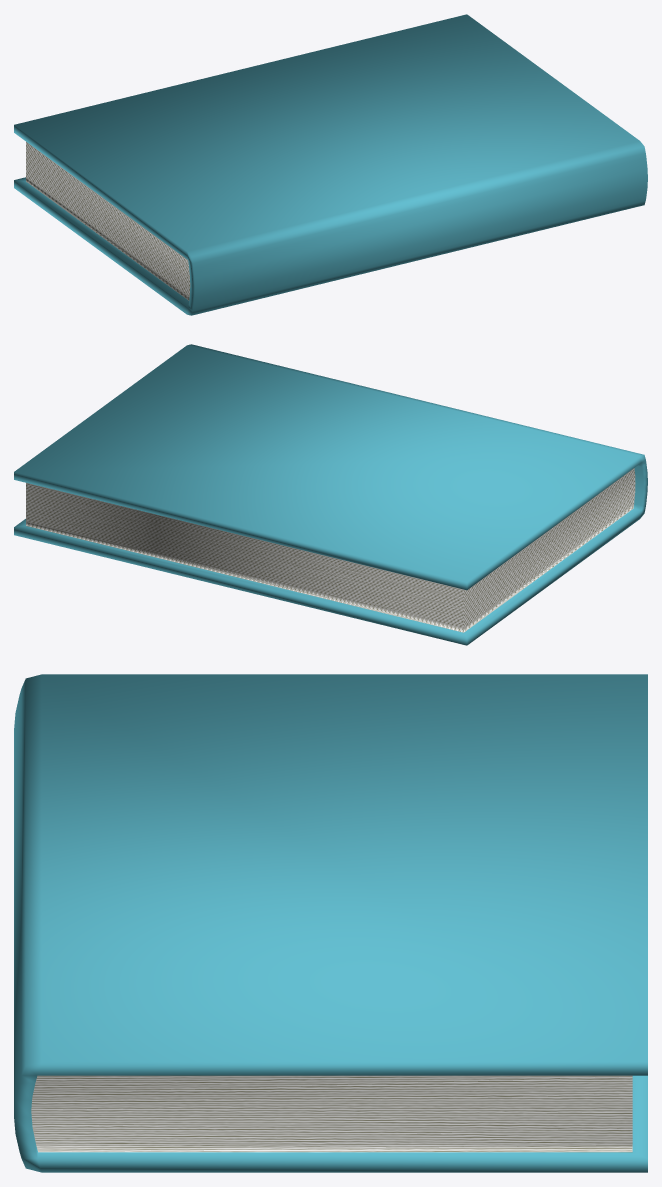
File: NewBook.fbx
3 renders of one model, top to bottom at view 1: azimuth 30°, elevation 25°; view 2: azimuth 150°, elevation 25°; view 3: azimuth 270°, elevation 25°, orthographic. The views are drawn at different scales.
Visible parts, largest first — view 1: Book; view 2: Book; view 3: Book.
Boxes of the visible parts, left/top/right/bottom form: Book: left=14, top=14, right=647, bottom=315; Book: left=14, top=344, right=647, bottom=645; Book: left=14, top=674, right=647, bottom=1172.
Bounding box in the file's own units: 30 × 4 × 20.75.
